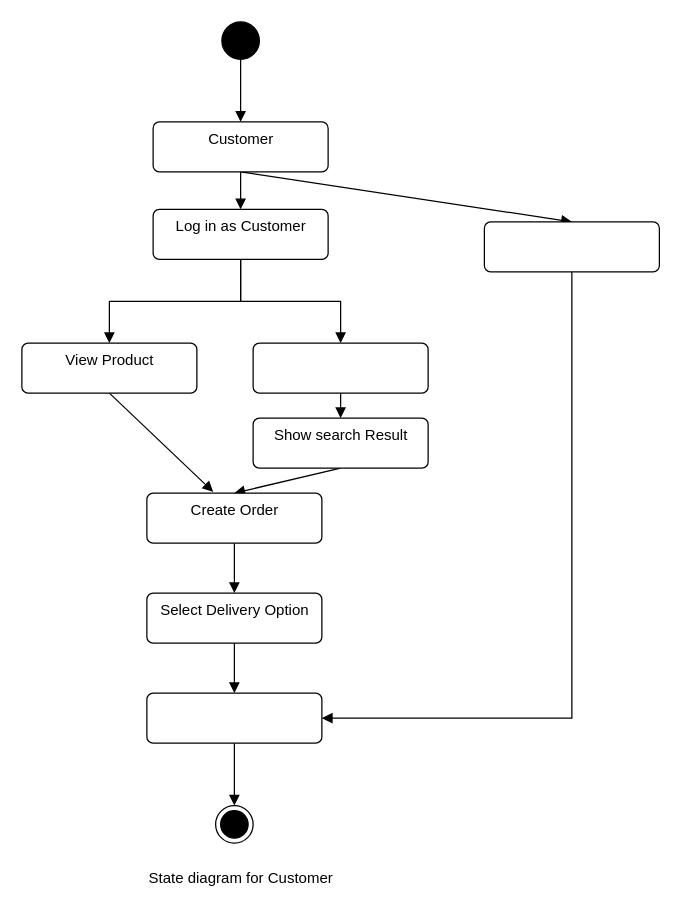
The diagram is 681 pixels wide and 919 high, and some of its shapes have lost their labels. The shapes that lost their labels are listed below. From the top down, each one's box as (x1, y1, x2, y2) in pixels, then its label:
(483, 221, 659, 272): Visit Outlet
(252, 342, 428, 393): Search Product
(146, 692, 322, 743): Place Order
